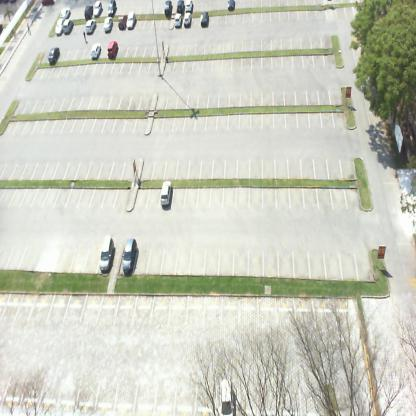car: (98, 235, 114, 276), (121, 237, 138, 275), (219, 374, 233, 415), (159, 179, 173, 210), (106, 39, 119, 60), (47, 46, 60, 65), (62, 18, 74, 35), (84, 18, 96, 34), (89, 43, 101, 59), (59, 4, 72, 18), (126, 12, 136, 30), (118, 10, 128, 28), (200, 9, 209, 28), (93, 0, 103, 17), (83, 3, 94, 18), (54, 18, 64, 34), (173, 11, 182, 28), (103, 18, 113, 33), (163, 0, 172, 16), (107, 2, 117, 15), (183, 12, 191, 27), (185, 0, 193, 13), (227, 0, 235, 13), (177, 0, 184, 12)
